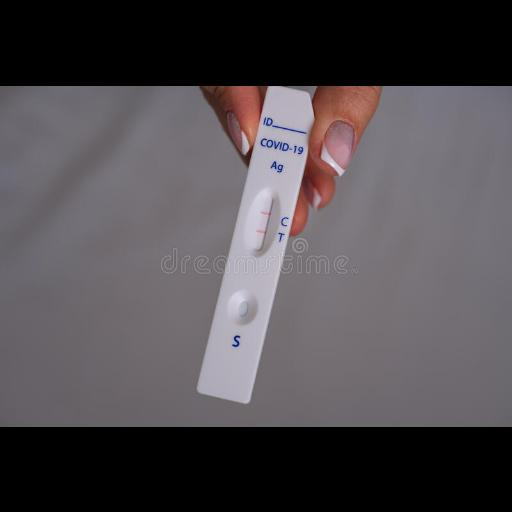Pos: (193, 85, 317, 406)
